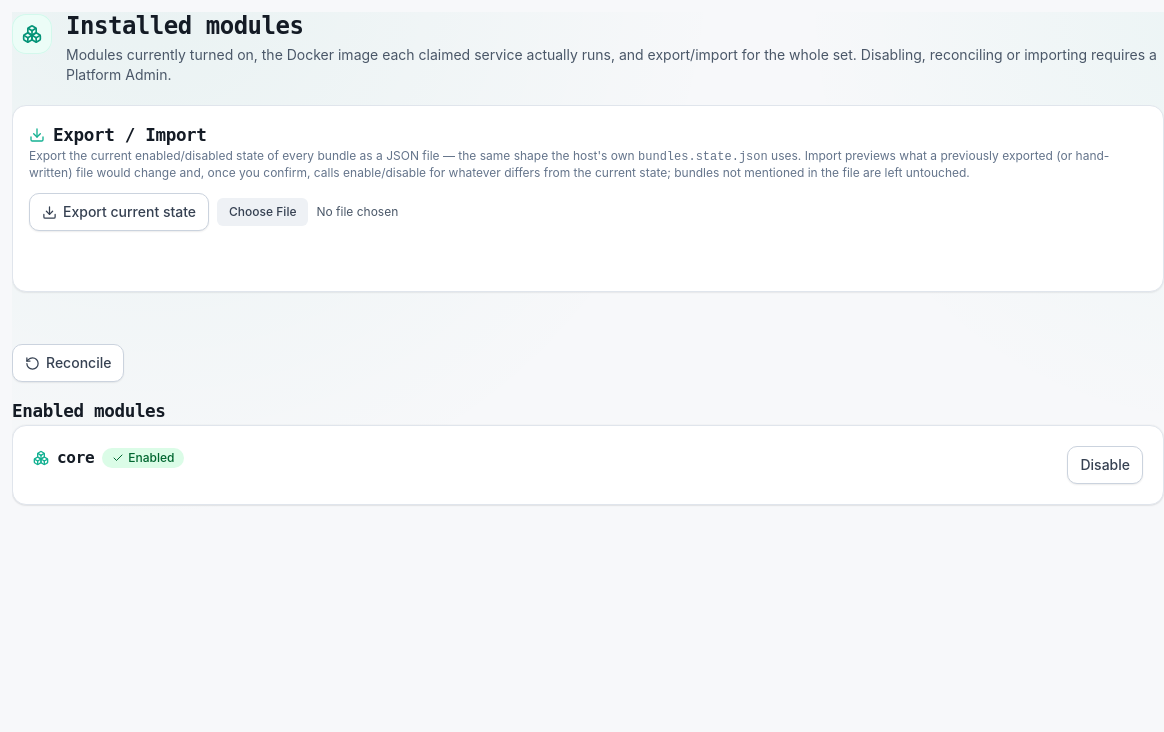
InstalledBundlesPage › shows a friendly error when reconcile fails, without reloading
Click the button "Reconcile" at (68, 363), box 12,344 -> 124,382
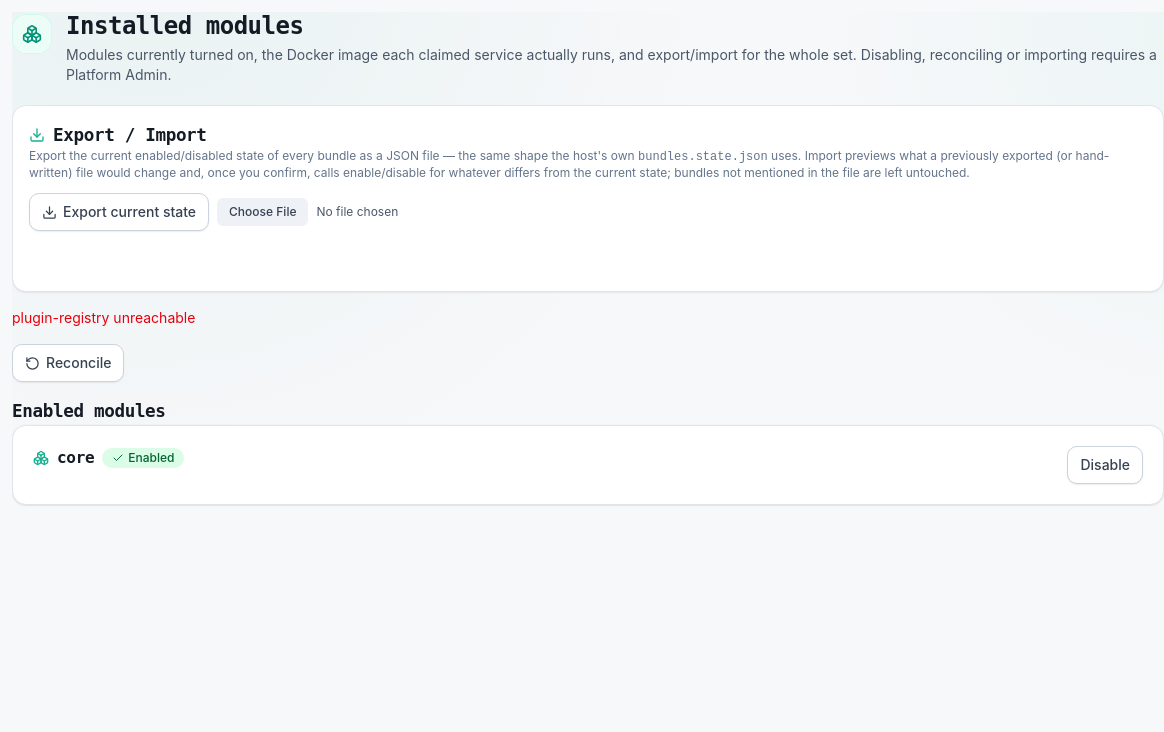
Check: the message "plugin-registry unreachable" is shown, box 12,309 -> 195,326
